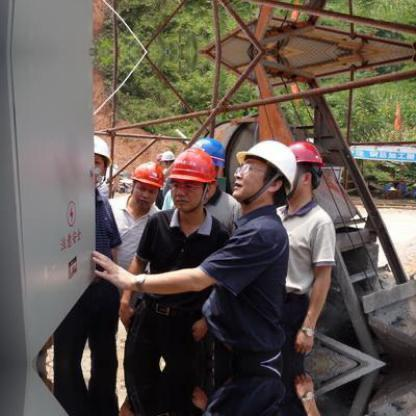helmet: (235, 137, 299, 200), (170, 147, 217, 187), (188, 137, 226, 173), (284, 141, 329, 164), (133, 160, 167, 189), (93, 131, 112, 169), (161, 150, 177, 164)
